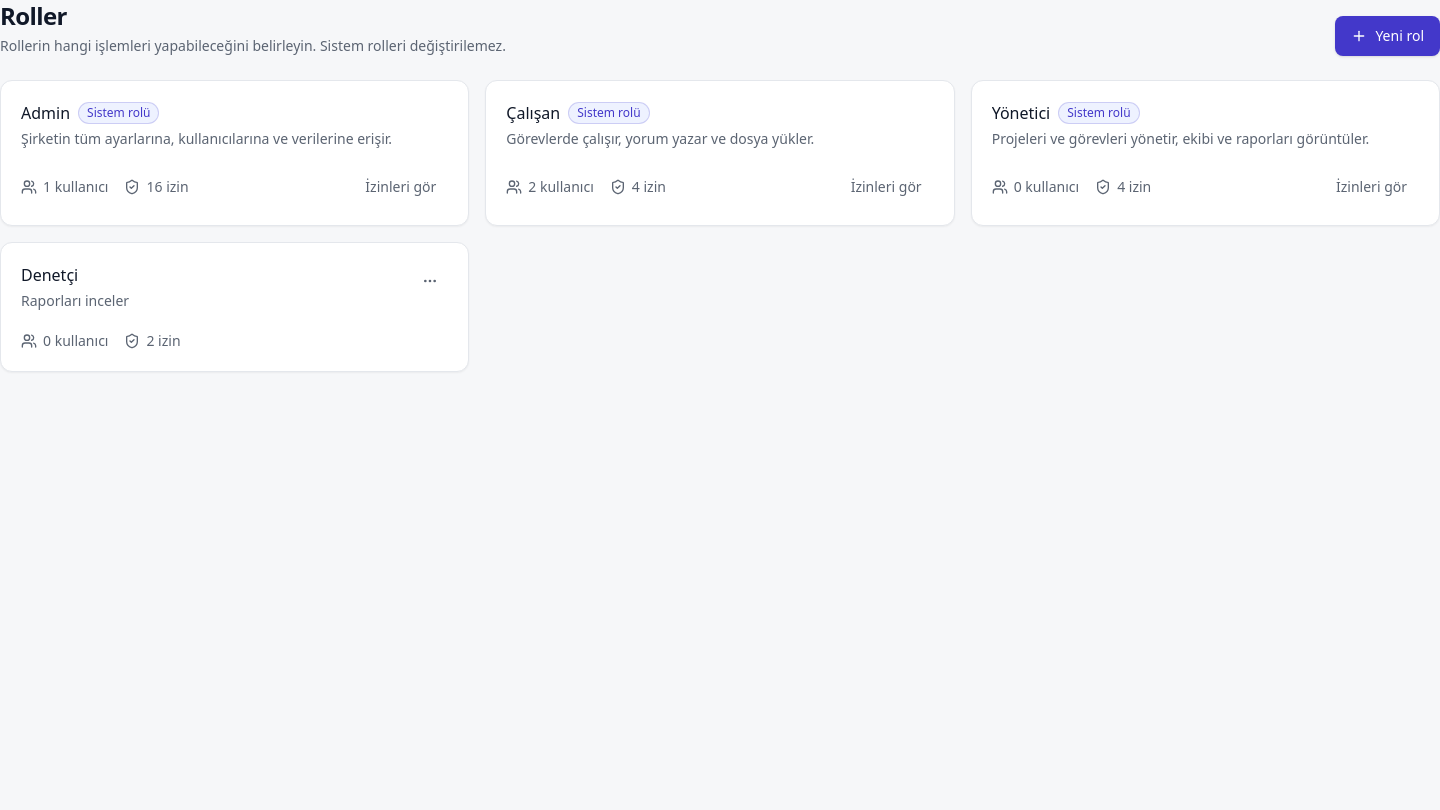
Test case: RolesPage › deletes a custom role after confirmation
Expected: the text "Denetçi" is shown, top-left (21, 263), bottom-right (78, 287)
What coordinates should you click on to do the following:
click the button named "Denetçi rolü için işlemler"
I would click on:
 (430, 281)
Its box is top-left (412, 263), bottom-right (448, 299).
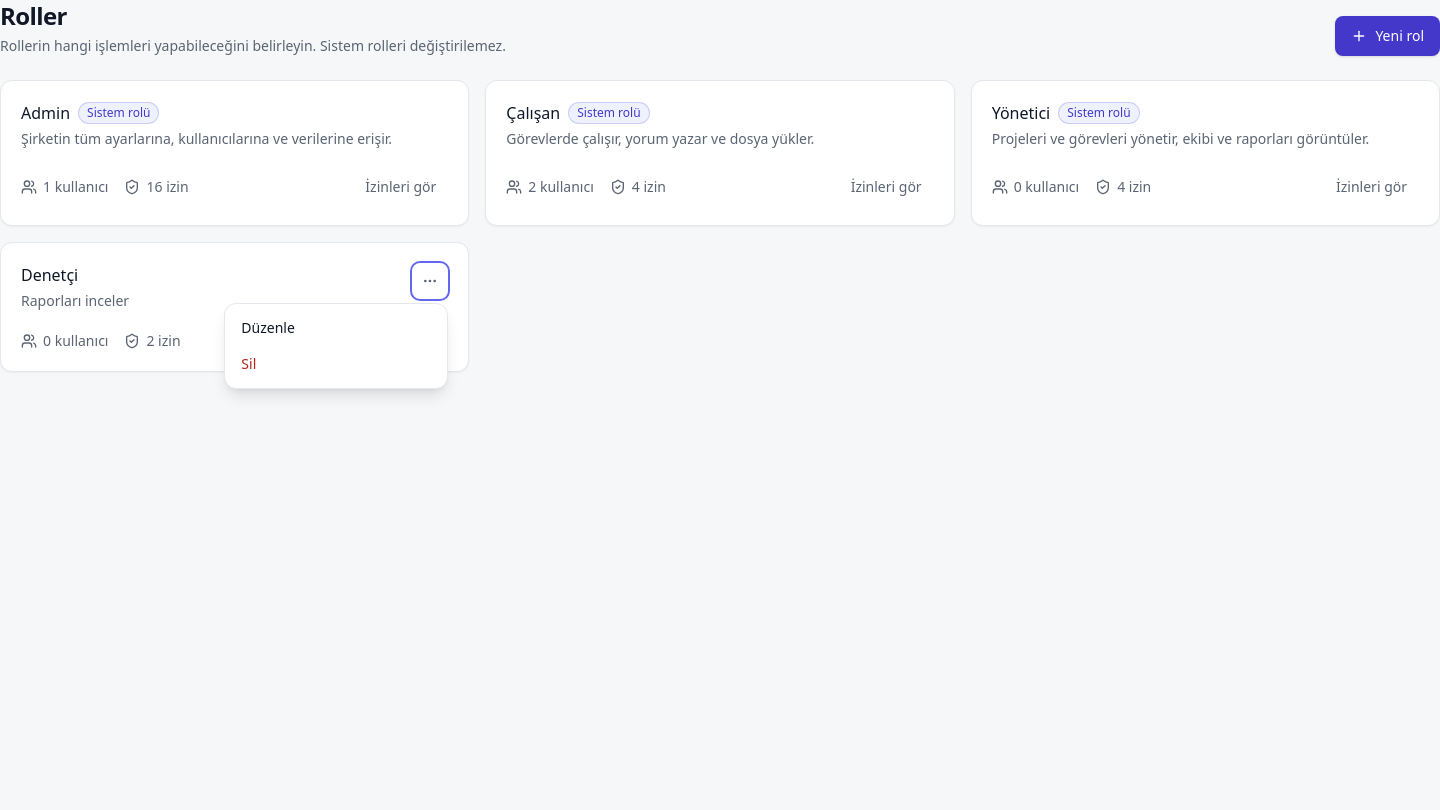
What coordinates should you click on to do the following:
click the menu item "Sil"
I would click on:
 (336, 364)
Its box is top-left (231, 346), bottom-right (441, 382).
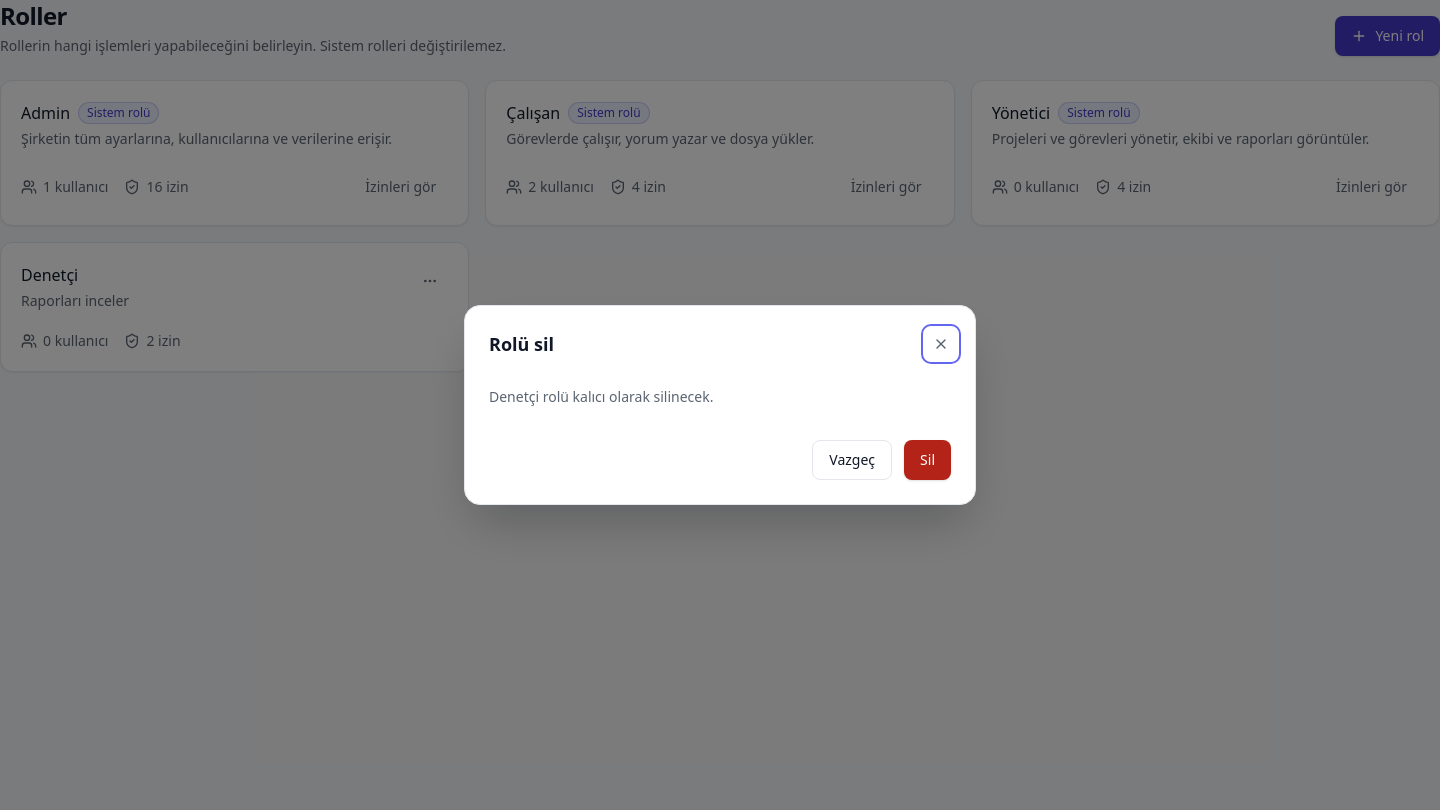
What coordinates should you click on to do the following:
click the button "Sil"
I would click on:
 (928, 460)
Its box is top-left (904, 440), bottom-right (951, 480).
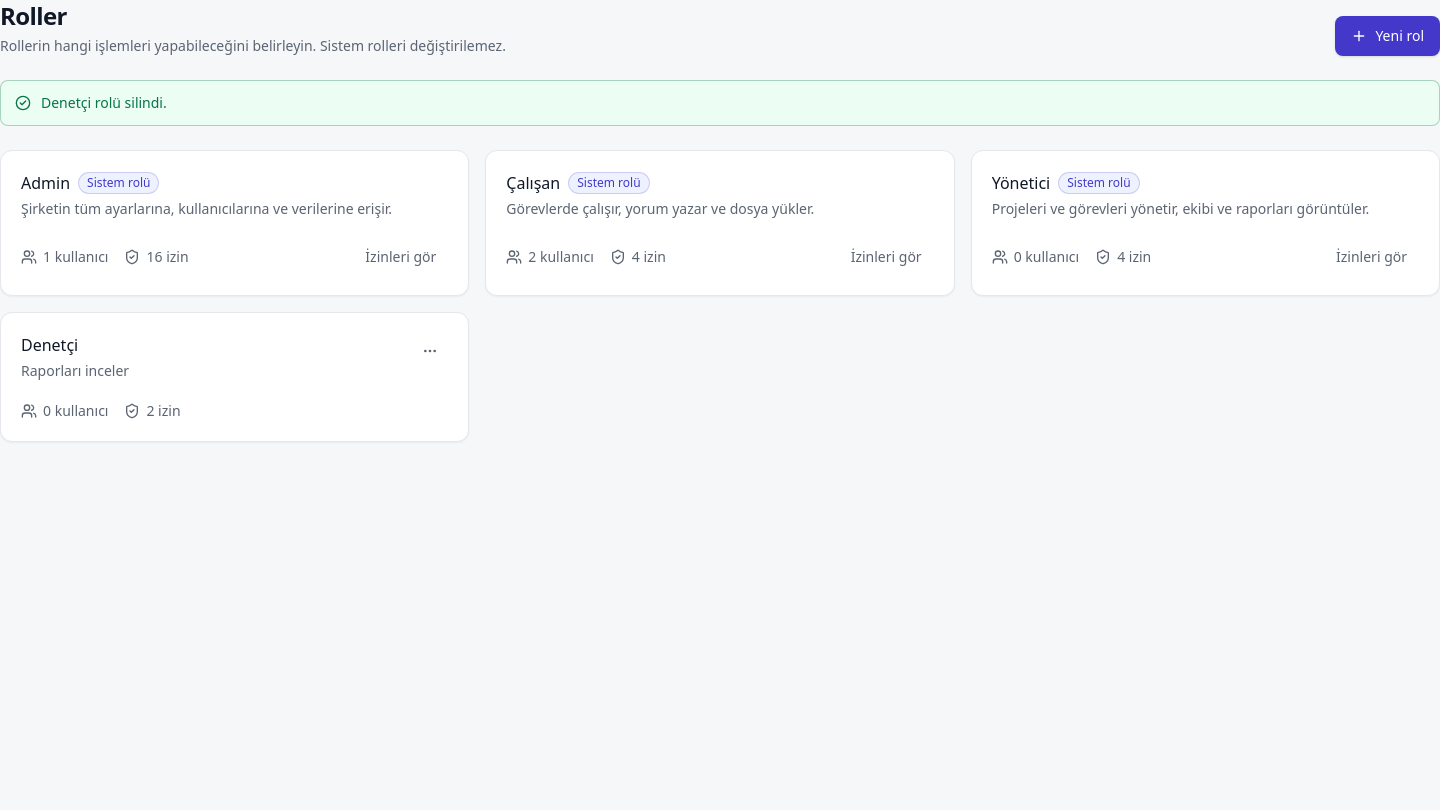
Now the text "Denetçi rolü silindi." is shown, box top-left (41, 93), bottom-right (167, 113)
